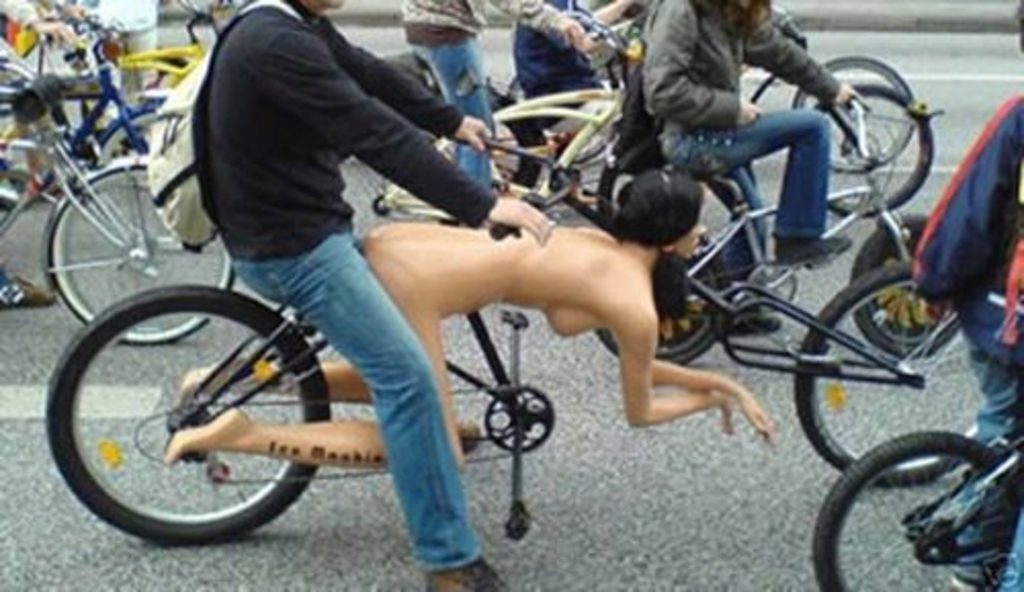Person: (645, 0, 861, 337)
